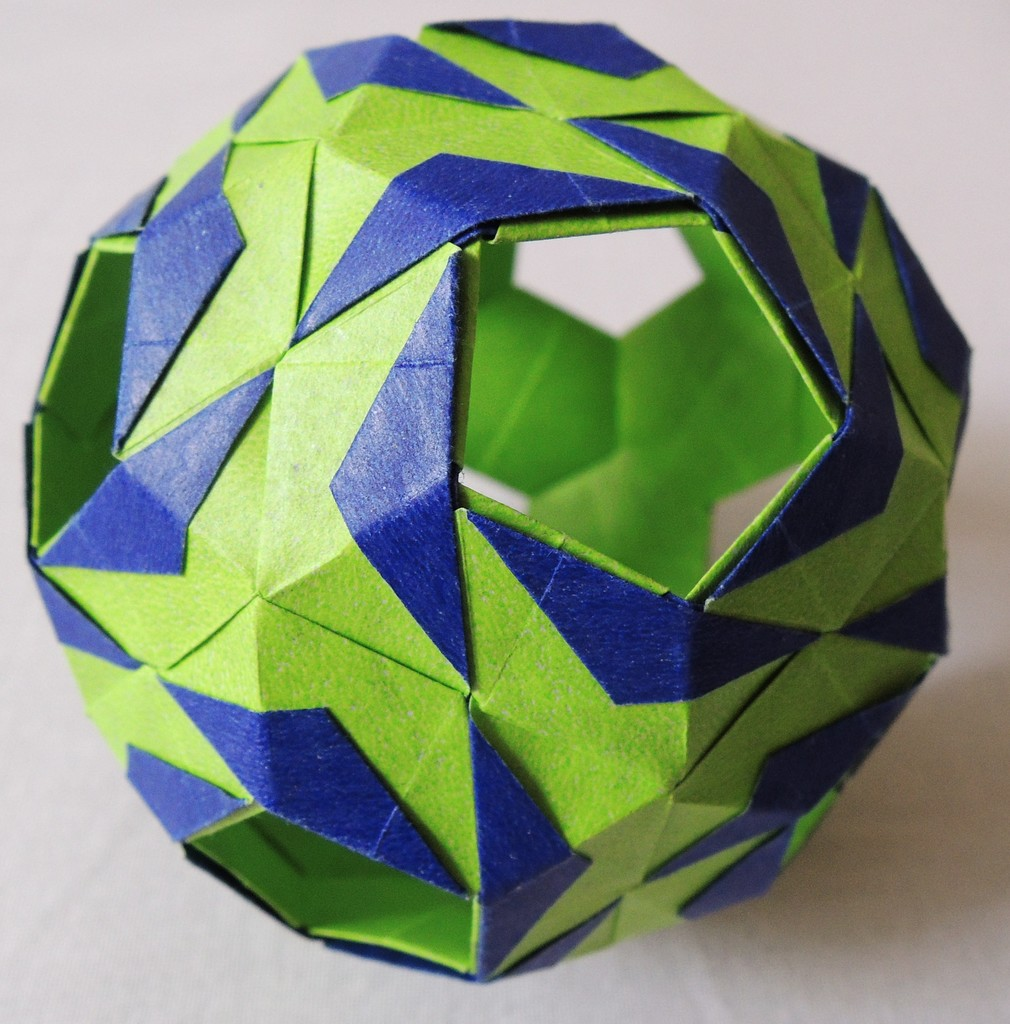Ball: (20, 20, 978, 986)
